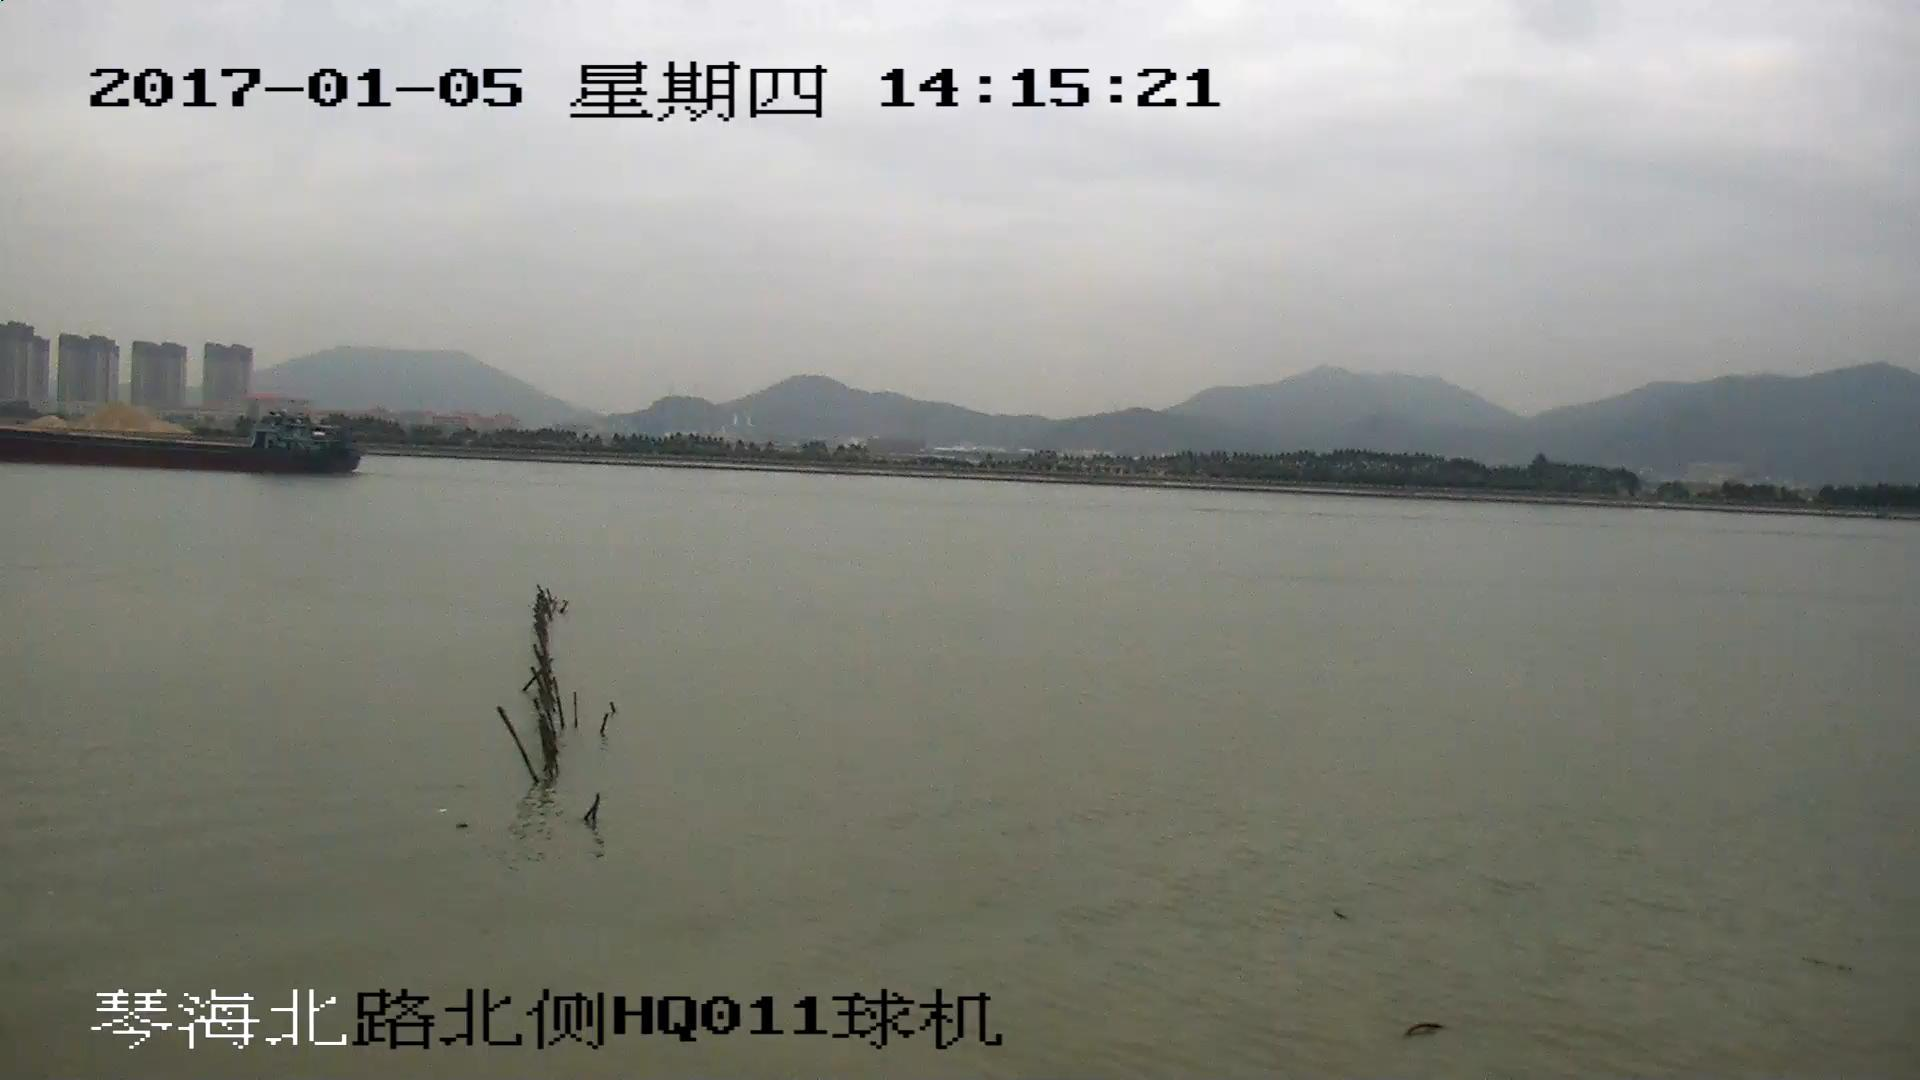Ship: (3, 415, 364, 469)
